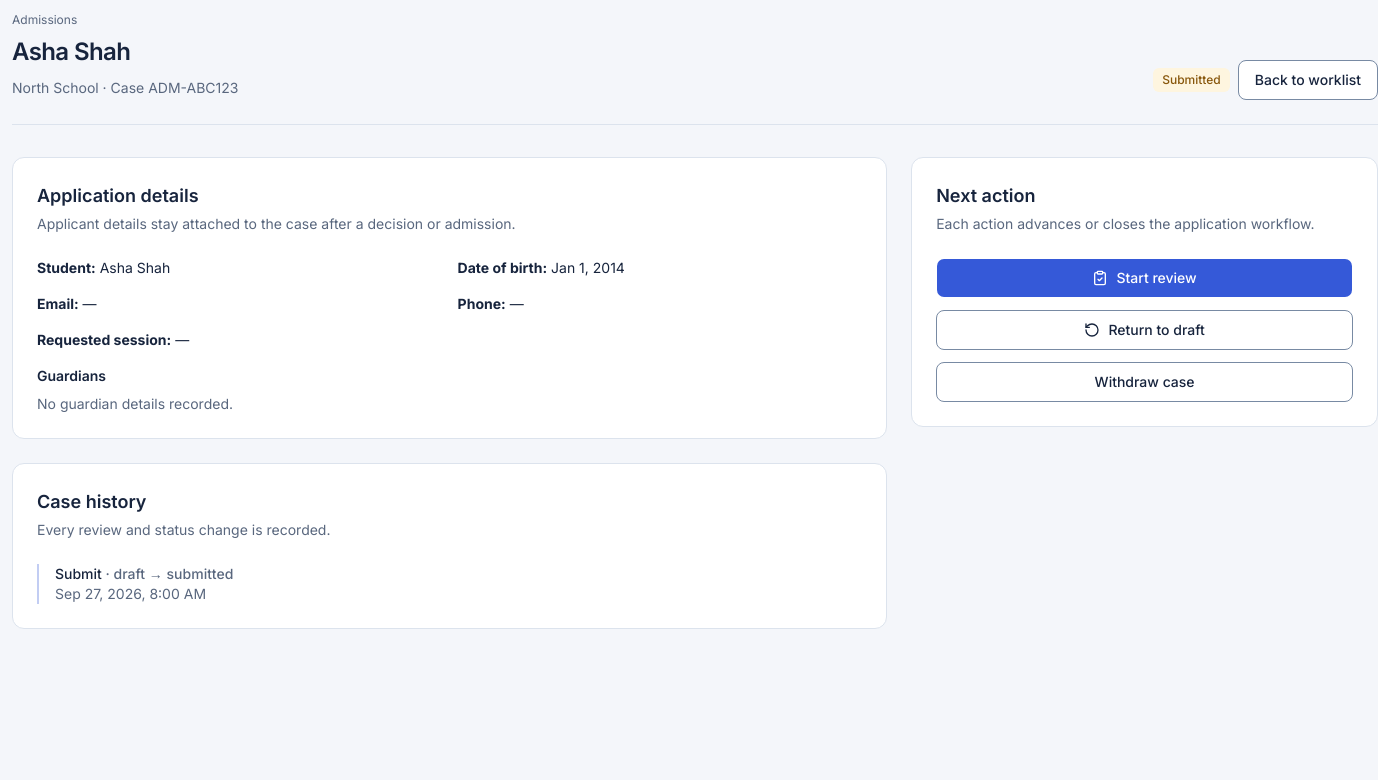
Test case: admission case detail › shows saved case history and a useful message when a review action is stale
Click the button "Start review" at {"x": 1145, "y": 278}, box [936,258,1353,298]
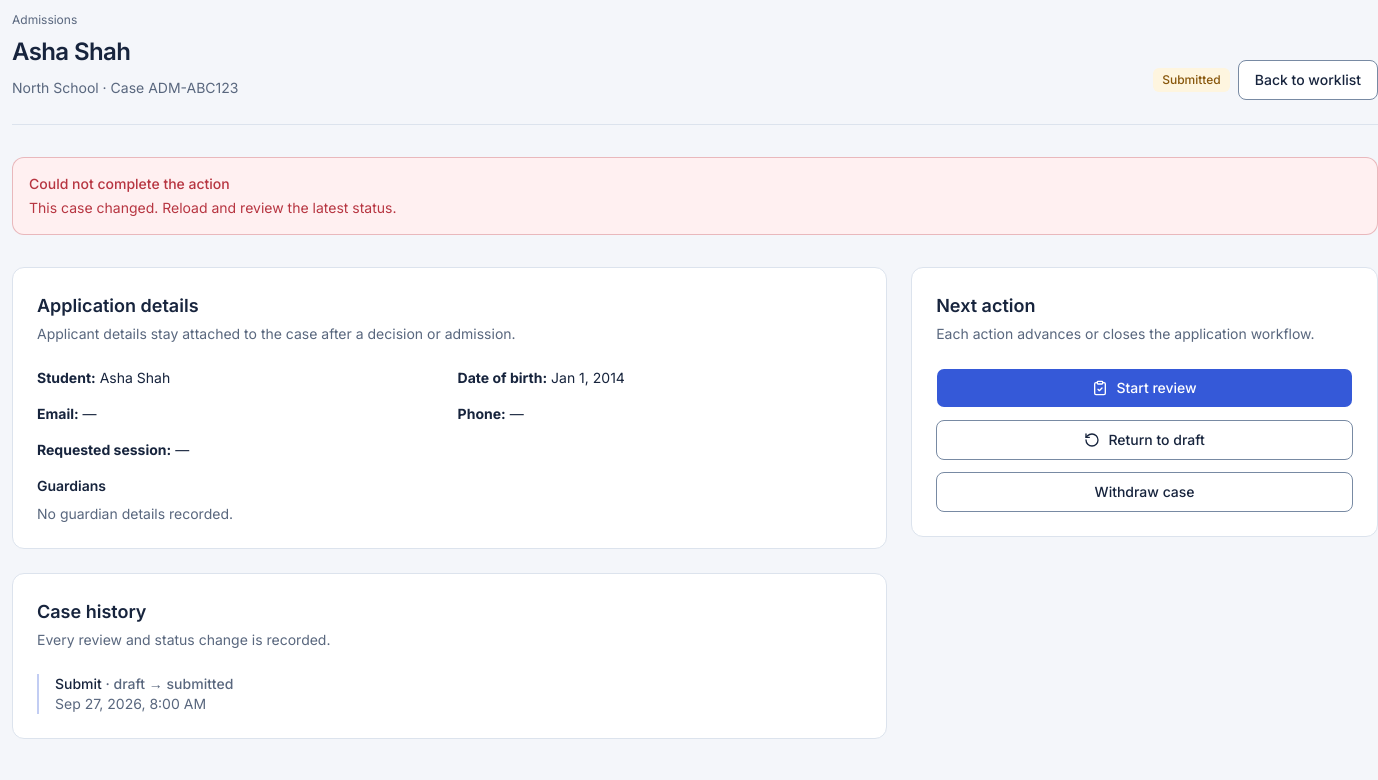
expect the text "This case changed. Reload and review the latest status." is shown: met, box [29,199,396,216]
